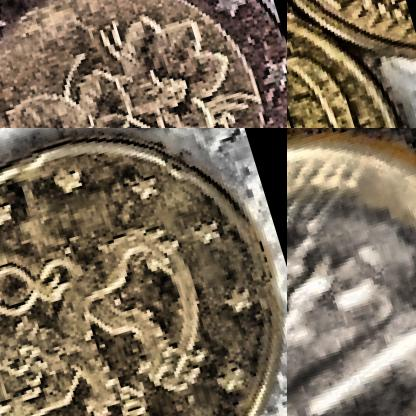coin: (0, 128, 286, 415), (287, 128, 415, 415), (0, 0, 286, 127), (287, 0, 415, 127)
